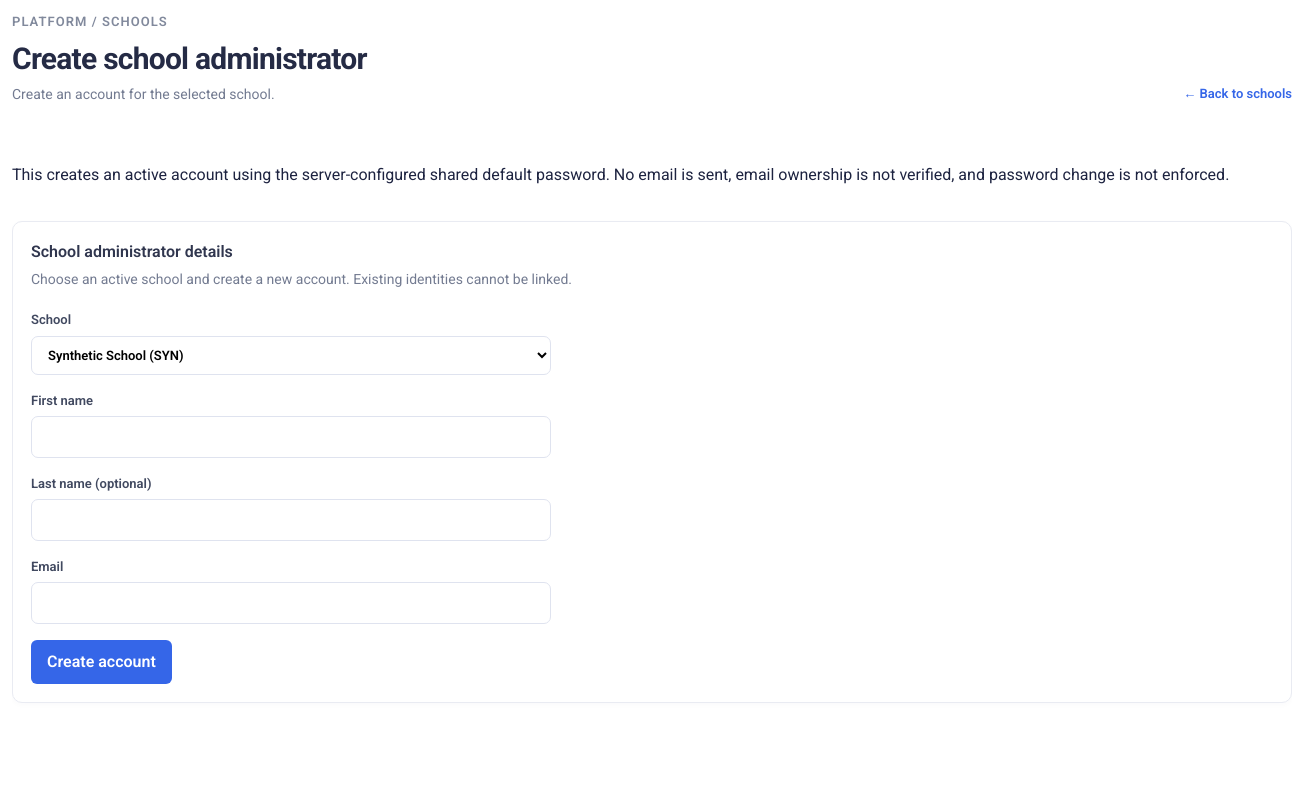
Test: school administrator creation › creates an account for the selected school without collecting a password
Type "  Synthetic  " into the field labelled "First name" at x=291, y=437, box left=31, top=416, right=551, bottom=458
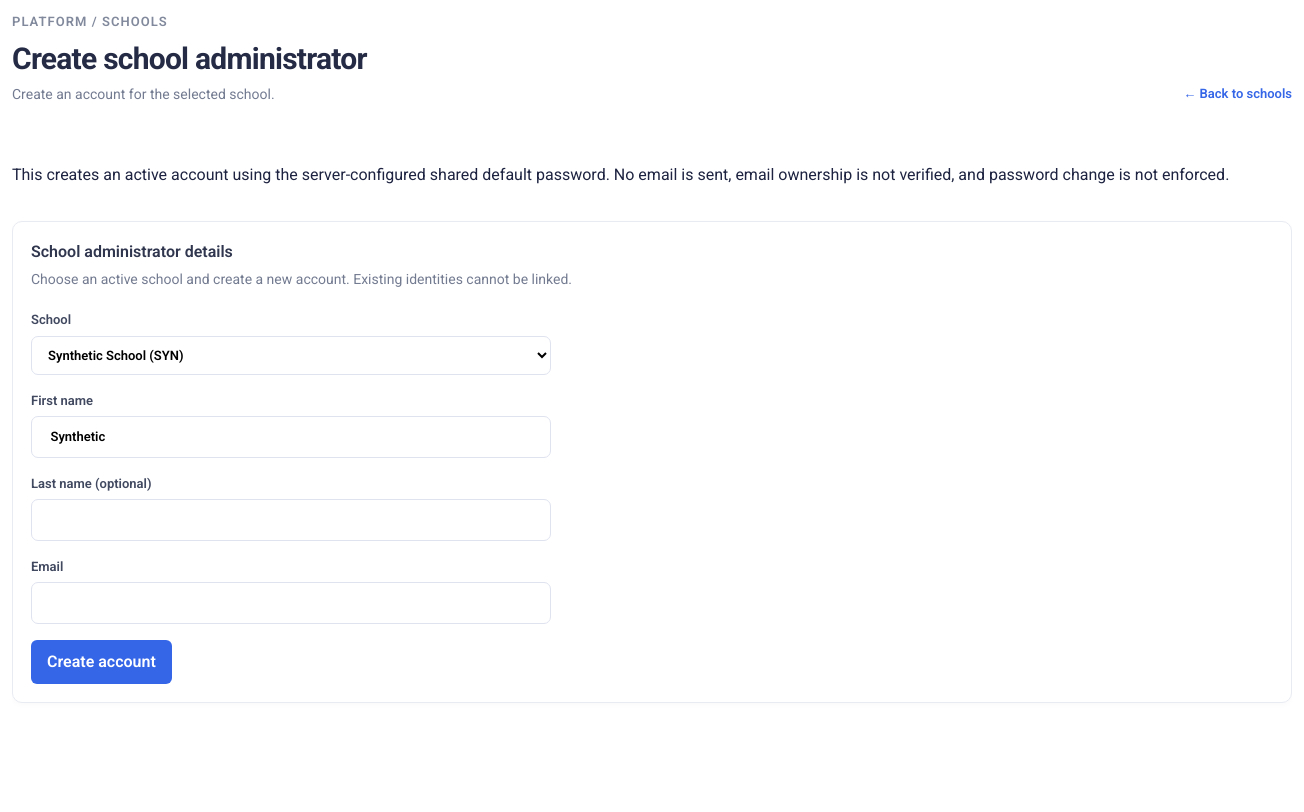
Type "Admin@Example.Test" into the field labelled "Email" at x=291, y=603, box left=31, top=582, right=551, bottom=624
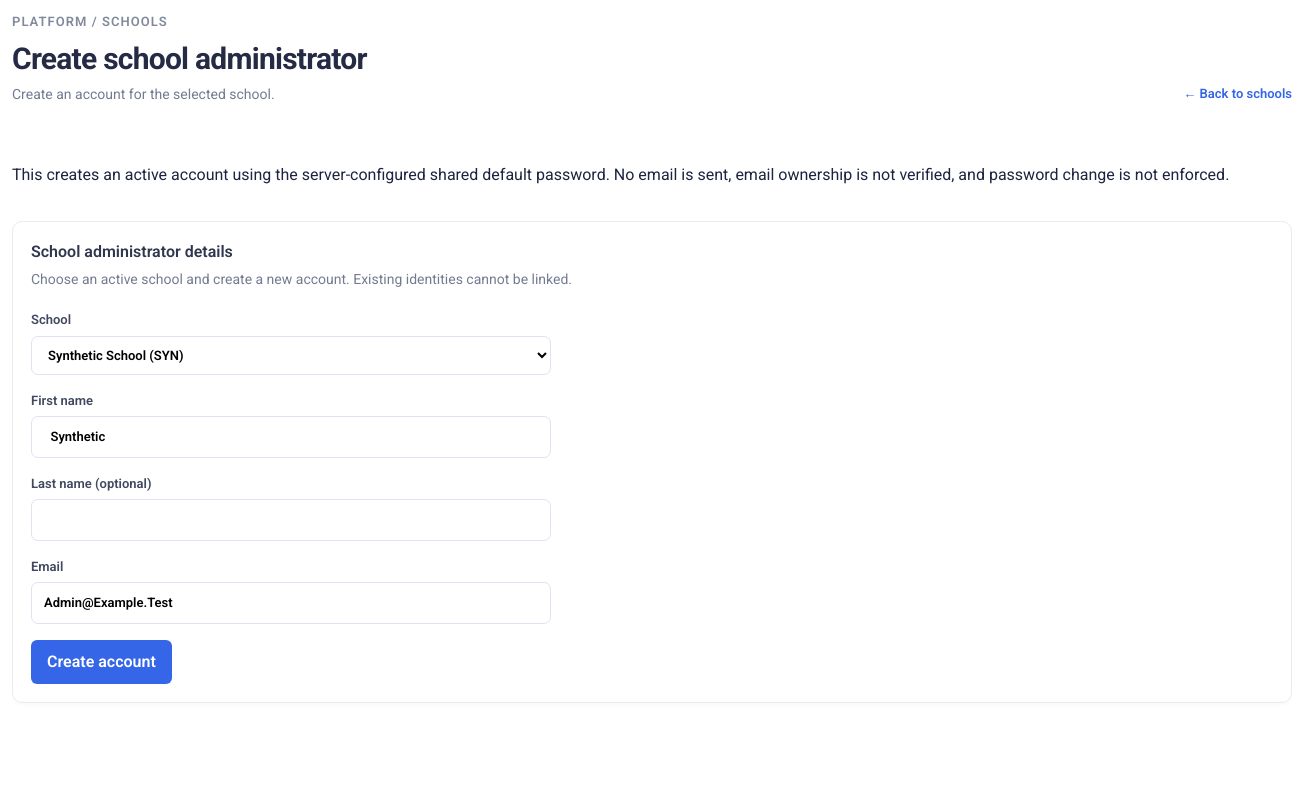
Click the button "Create account" at x=101, y=662, box left=31, top=640, right=172, bottom=684
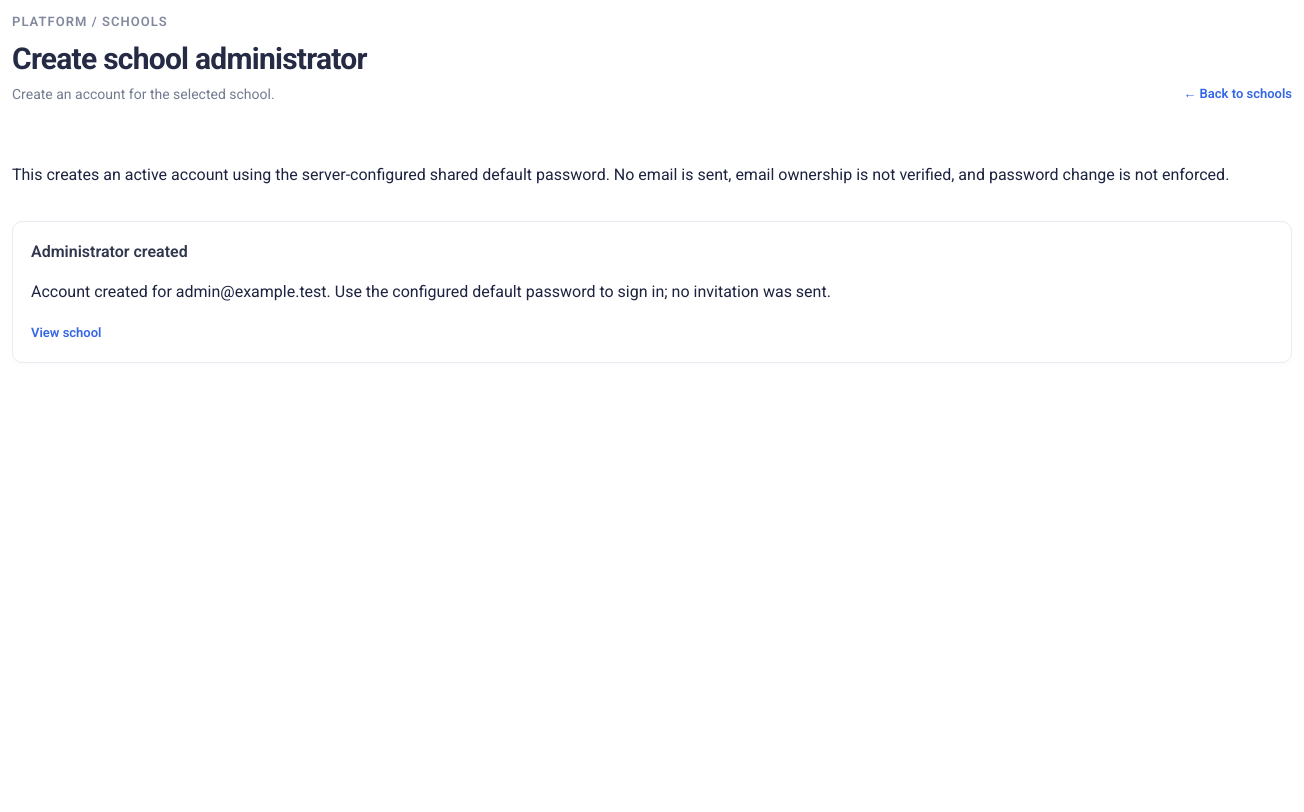
Expected: the text "Account created for admin@example.test" is shown, left=31, top=282, right=831, bottom=301
